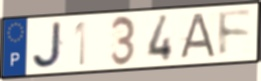1: (74, 21, 87, 66)
3: (109, 13, 138, 68)
4: (145, 13, 175, 63)
A: (176, 12, 218, 61)
F: (216, 9, 254, 60)
J: (30, 20, 65, 71)
